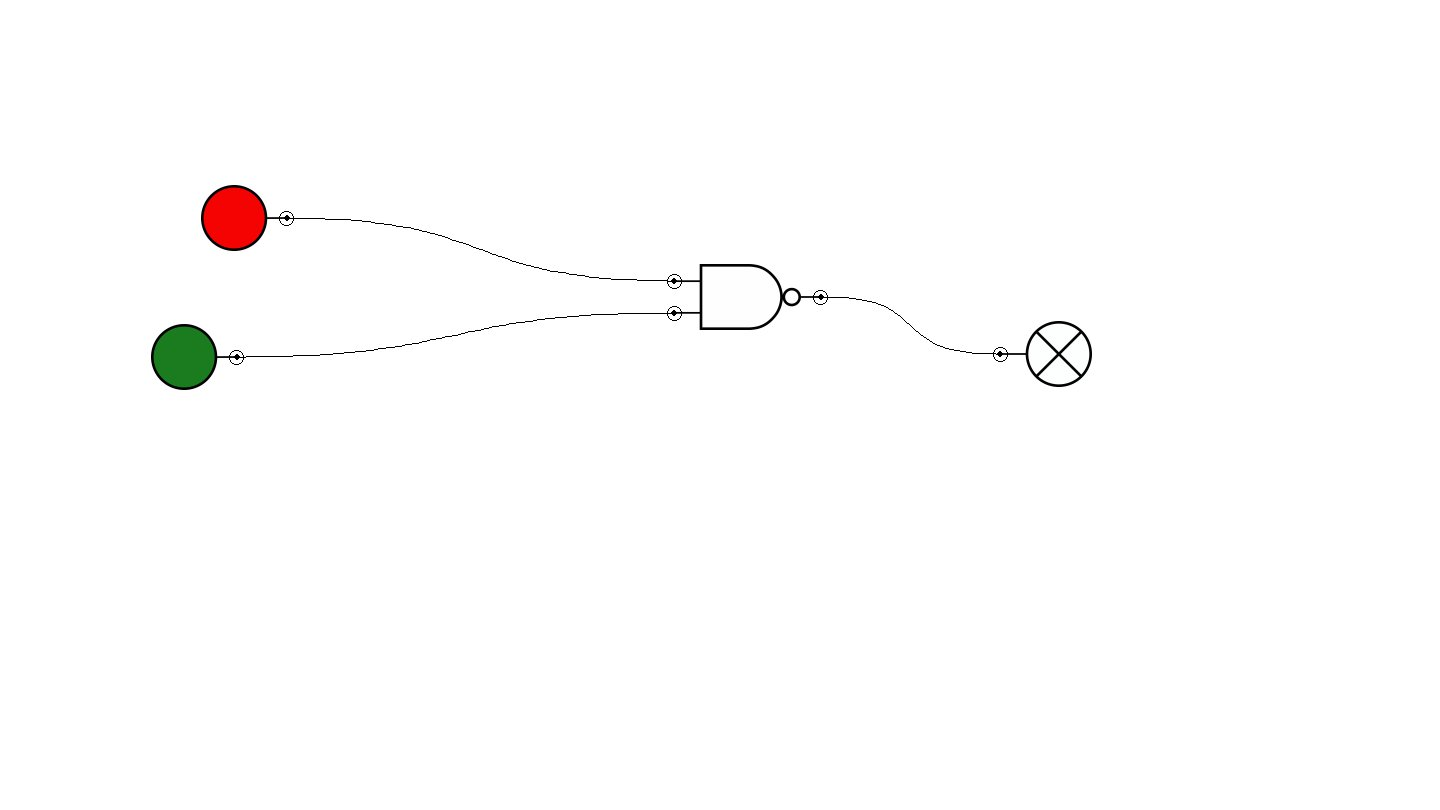bulb: (993, 321, 1092, 387)
nand: (667, 264, 828, 330)
switch_False: (201, 185, 294, 251)
switch_True: (151, 324, 244, 390)
